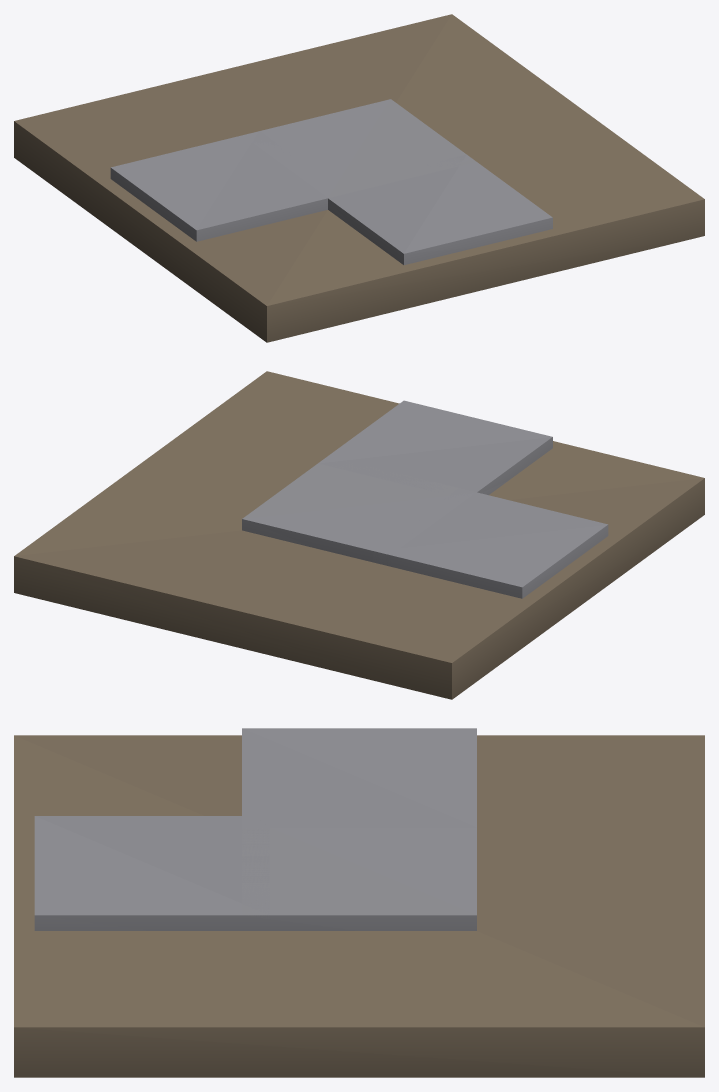
File: path_corner.glb
3 renders of one model, top to bottom at view 1: azimuth 30°, elevation 25°; view 2: azimuth 150°, elevation 25°; view 3: azimuth 270°, elevation 25°, orthographic. The views are drawn at different scales.
Parts seen in each view (by area): view 1: path_corner; view 2: path_corner; view 3: path_corner.
Part boxes in pixels (x1=…): path_corner: x1=14, y1=14, x2=704, y2=342; path_corner: x1=14, y1=371, x2=704, y2=699; path_corner: x1=14, y1=728, x2=704, y2=1077.
Bounding box in the file's own units: 1 × 0.105 × 1.
